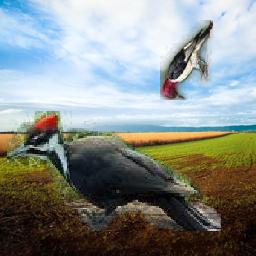Woodpecker: (7, 111, 221, 231), (161, 20, 214, 100)
